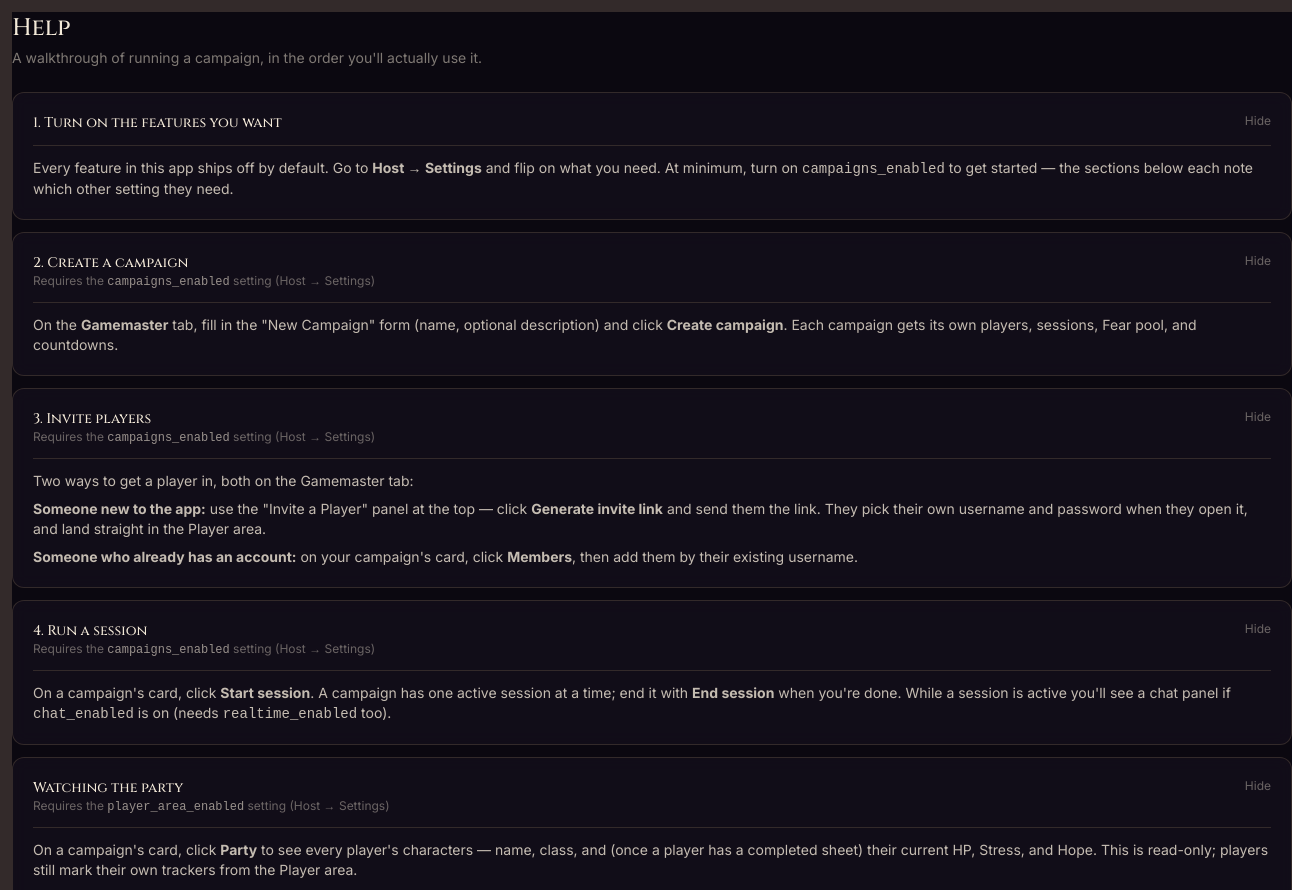
HelpPage › sections start open and can be collapsed
Expected: the text "Every feature in this app ships off by default" is shown, [33, 159, 372, 176]
What coordinates should you click on to do the following:
click the button "1. Turn on the features you want Hide"
I would click on:
 (157, 122)
Its box is [33, 113, 1271, 133].
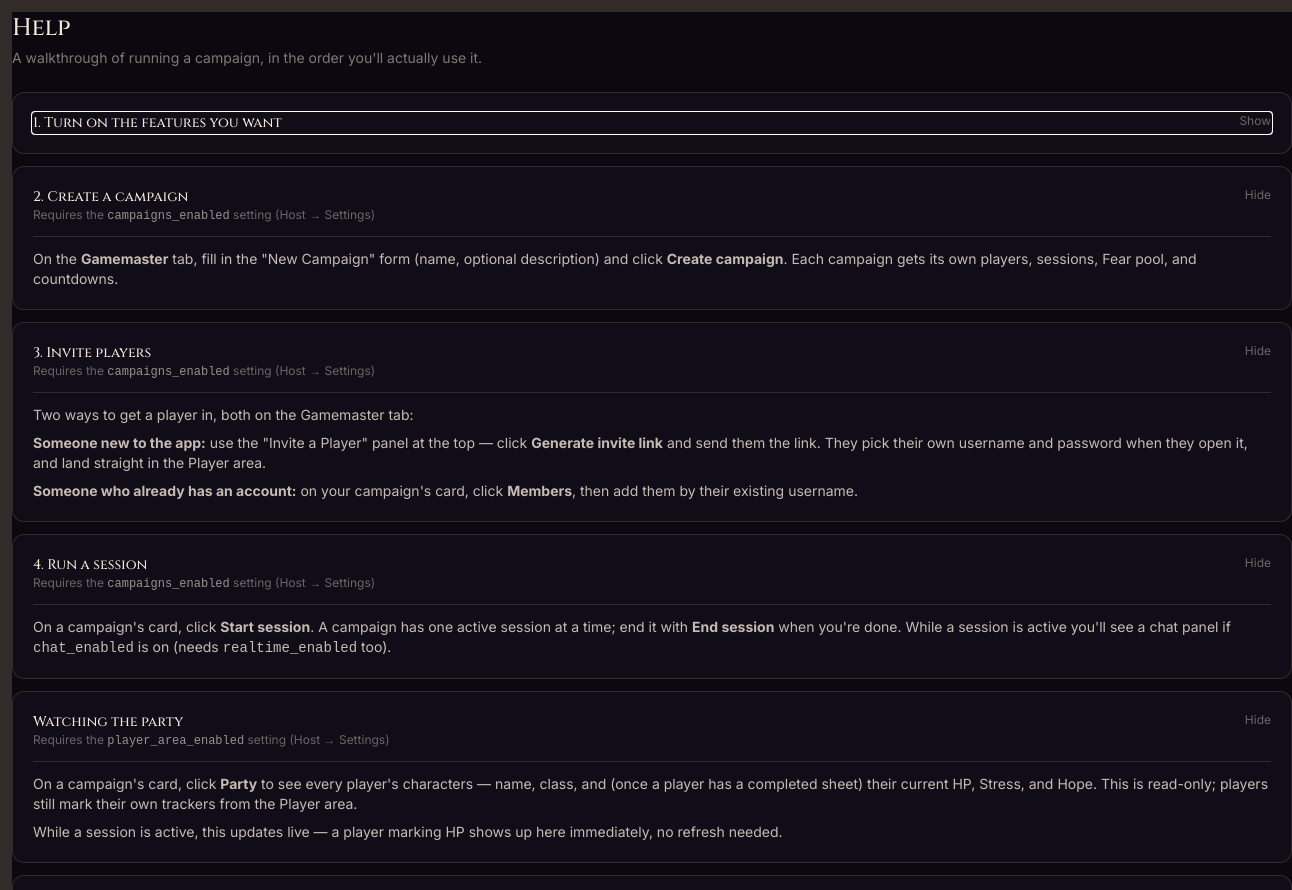
Expected: the text "Every feature in this app ships off by default" is gone
